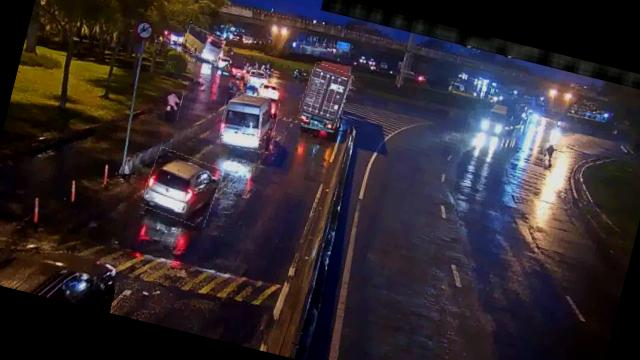Bike: (162, 87, 184, 121), (540, 142, 562, 170)
Bus: (215, 89, 282, 157), (180, 26, 227, 64)
Car: (140, 148, 224, 228), (253, 78, 283, 103)
Truck: (297, 62, 352, 129)
